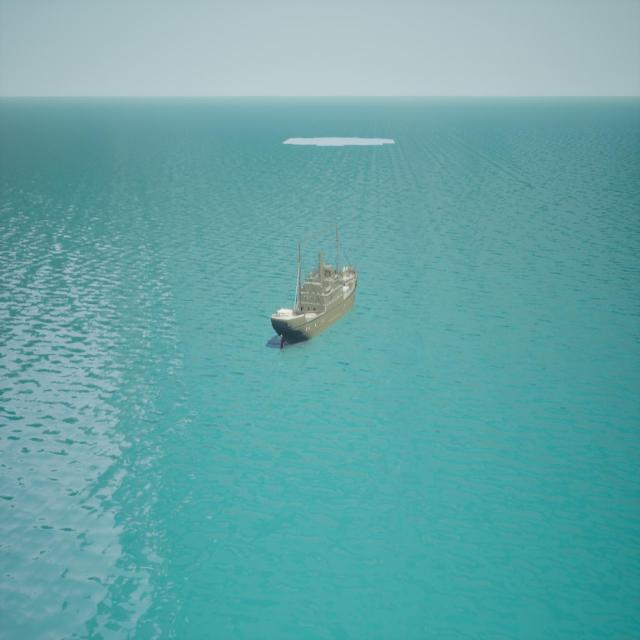fishing ship: (269, 227, 358, 348)
